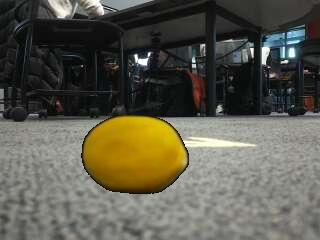lemon: (82, 116, 187, 193)
